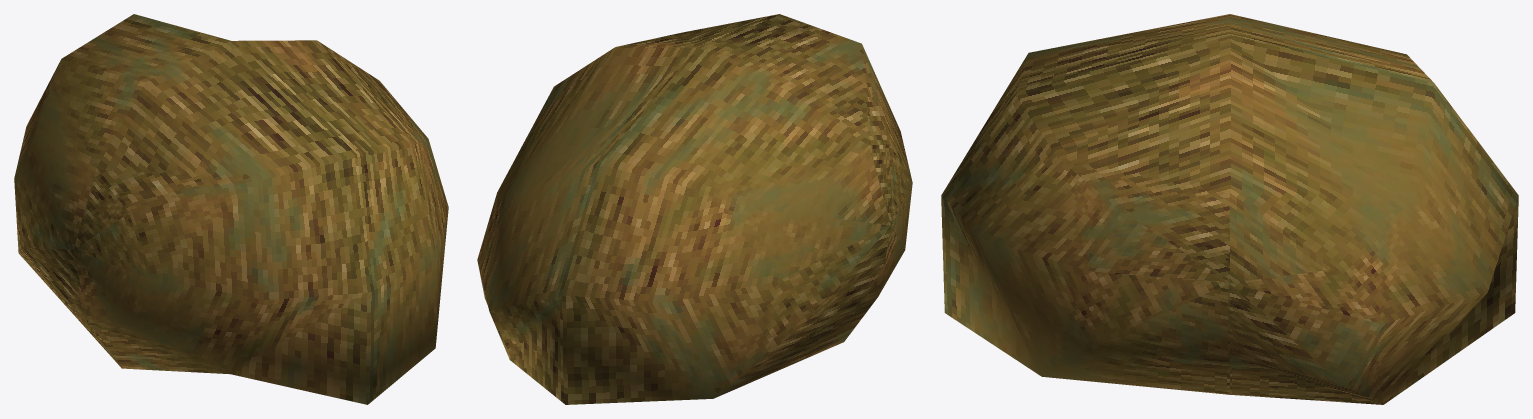
File: stone01.obj
The picture shows the model from 3 angles, left to right: view 1: azimuth 30°, elevation 25°; view 2: azimuth 150°, elevation 25°; view 3: azimuth 270°, elevation 25°; orthographic projection. The views are drawn at different scales.
Visible parts, largest first — view 1: Sphere01; view 2: Sphere01; view 3: Sphere01.
Boxes of the visible parts, x1,y1,x2,y2 form: Sphere01: [14, 14, 448, 404]; Sphere01: [477, 14, 912, 404]; Sphere01: [941, 14, 1518, 404].
Bounding box in the file's own units: 11.25 × 9.95 × 15.46.
